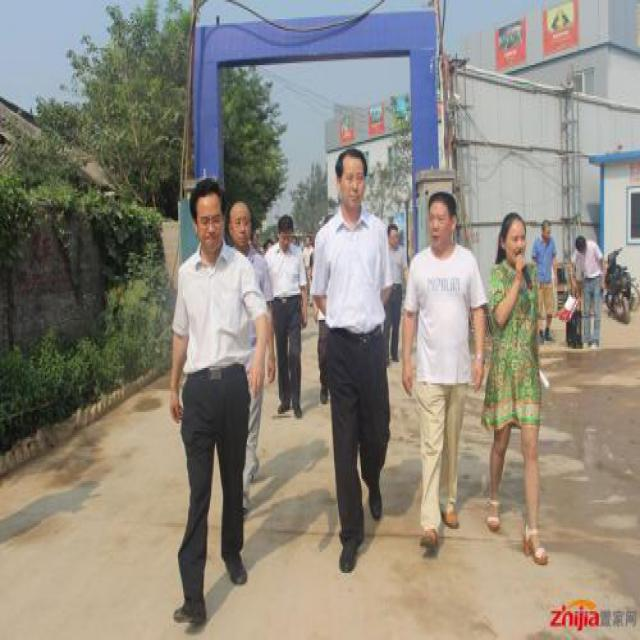head: (186, 171, 228, 254), (331, 145, 370, 218), (422, 187, 459, 254), (496, 208, 530, 269), (228, 194, 256, 254), (272, 212, 294, 250), (388, 218, 402, 252), (572, 229, 586, 258), (541, 216, 554, 243)
person: (156, 170, 265, 639), (302, 141, 393, 592), (396, 183, 494, 558), (485, 202, 551, 573), (266, 213, 316, 435), (569, 227, 613, 362)
